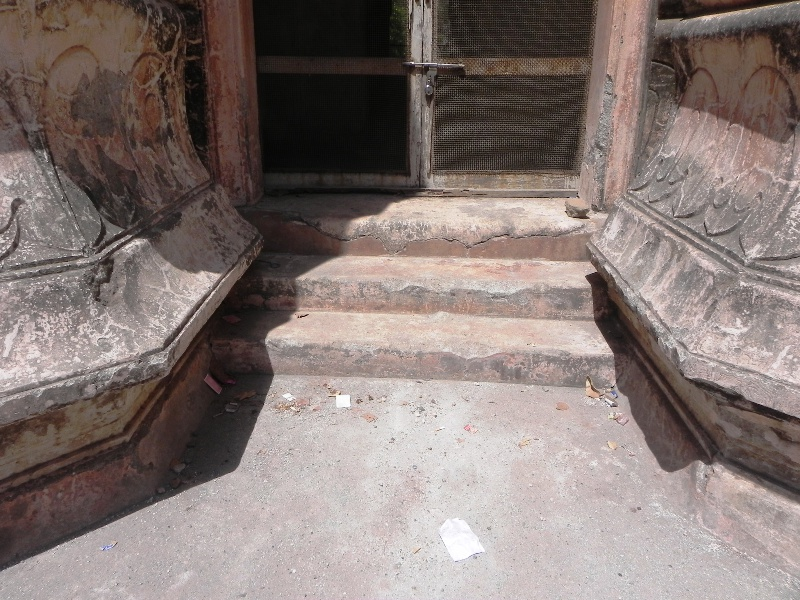Crack: (408, 231, 570, 248)
